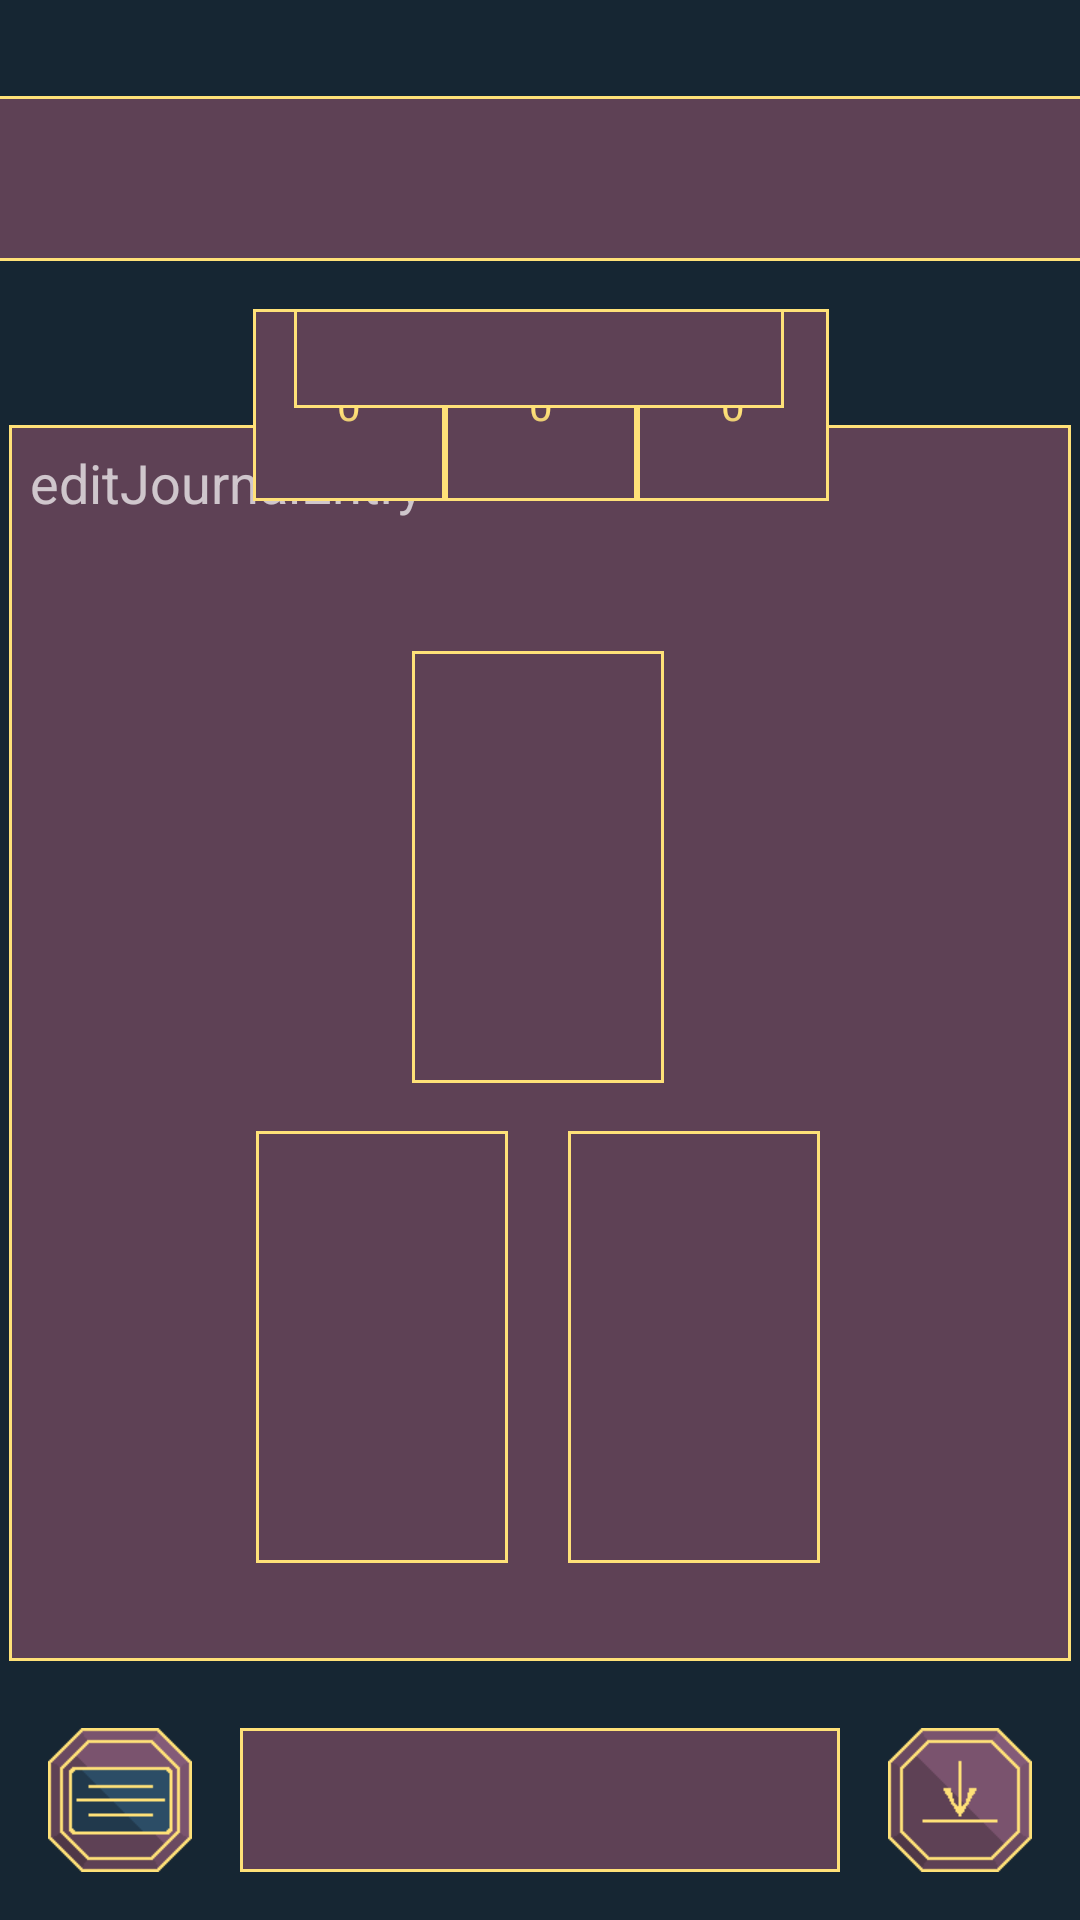

Icon click points for this 1080×1920 phone screenshot, format (x,y):
save: (960,1800)
